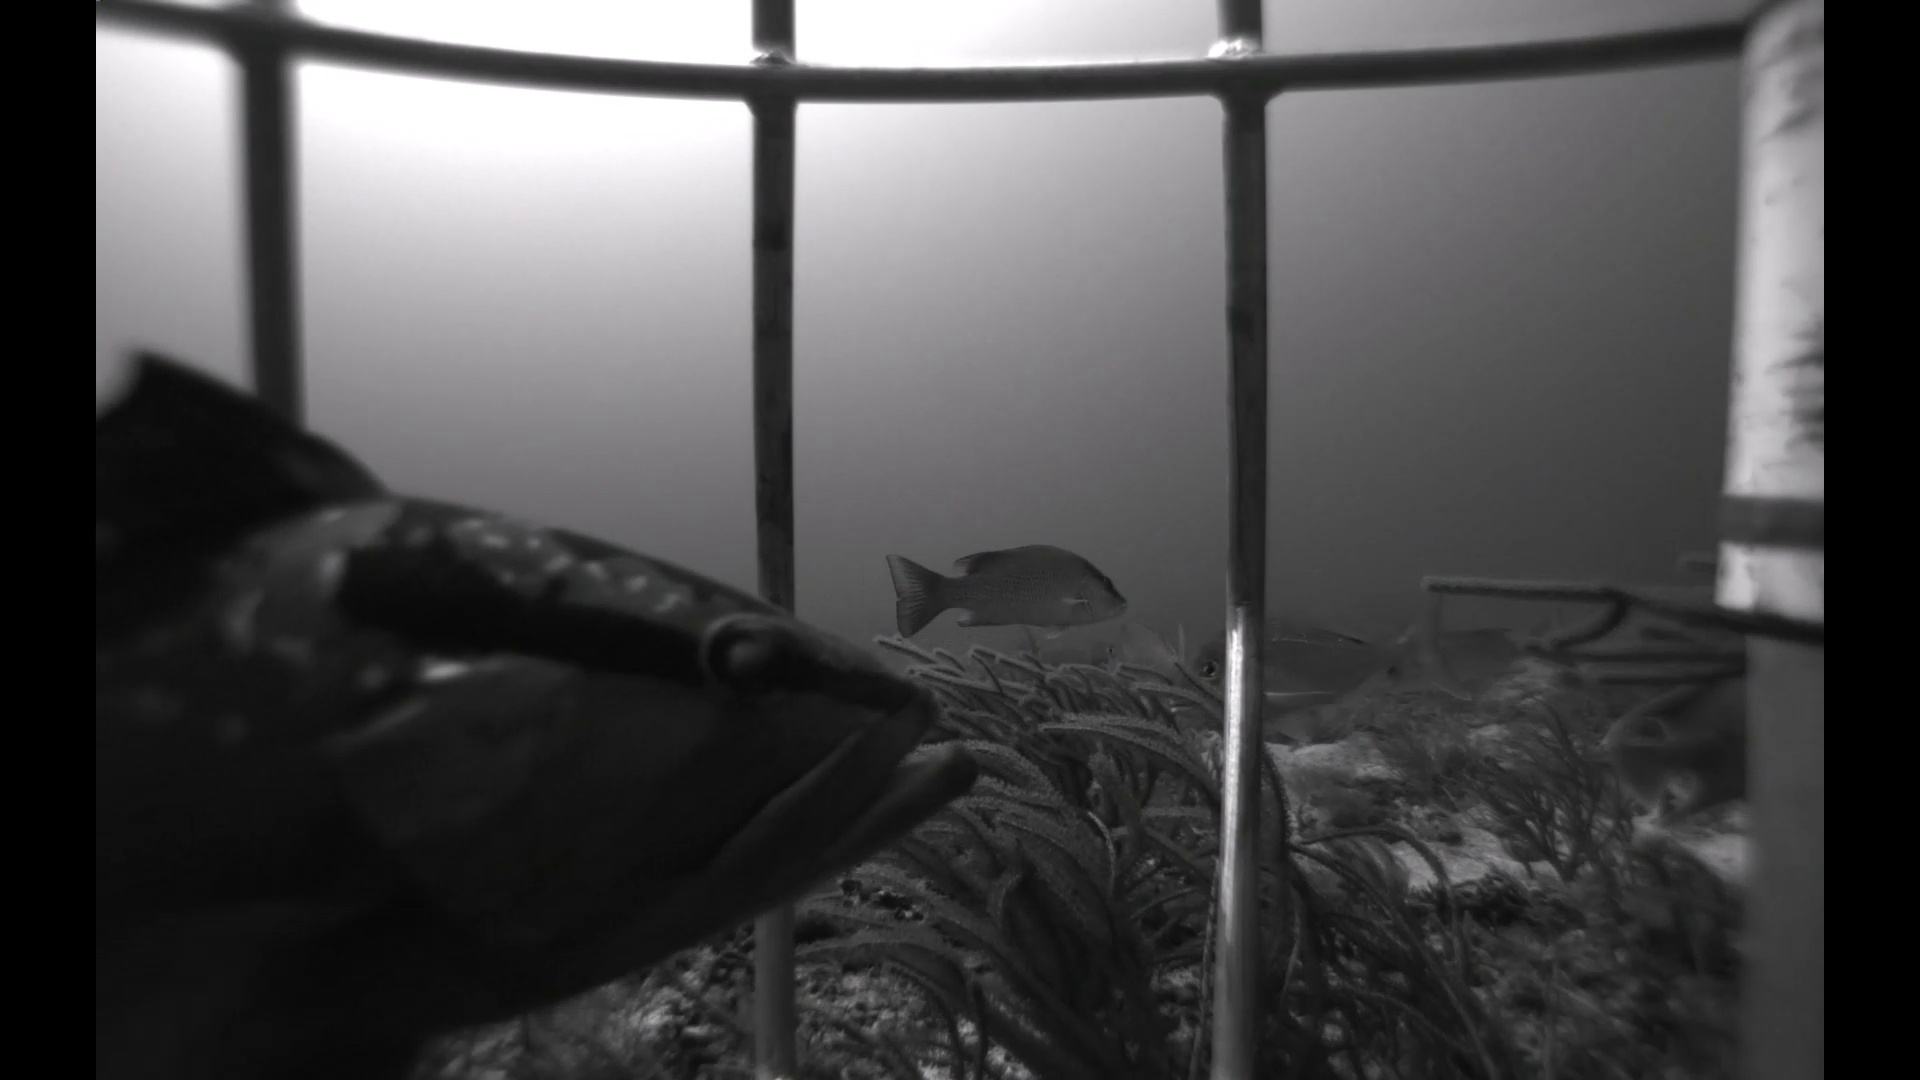CALAMUSNODOSUS-170210608: (1098, 613, 1196, 691), (810, 868, 853, 916)
EPINEPHELUSMORIO-170021211: (105, 330, 1000, 1068)
HOLACANTHUSBERMUDENSIS-170290102: (1572, 671, 1749, 853)
LUTJANUSGRISEUS-170151109: (876, 539, 1133, 649), (1371, 589, 1601, 709)
PAGRUSPAGRUS-170212302: (1163, 585, 1477, 721)
